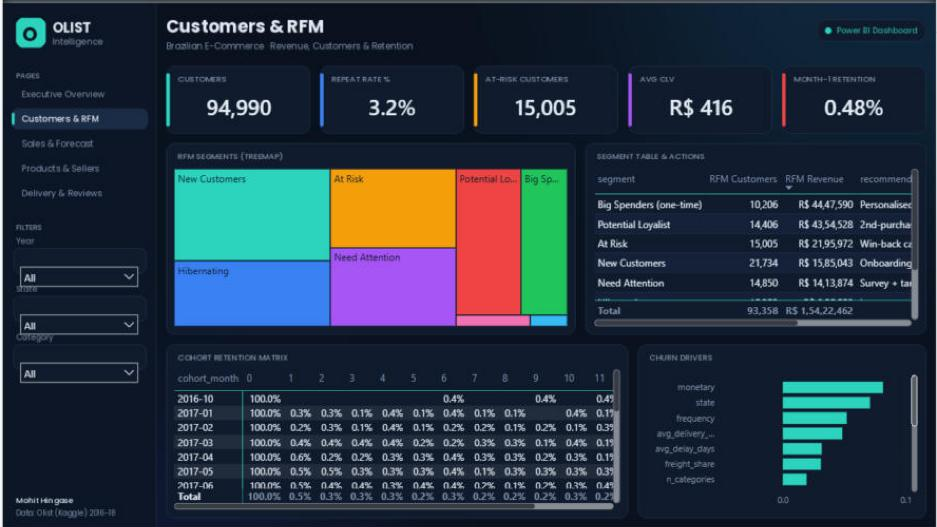

The dashboard page shown, as its layout file describes it:
{"tool":"powerbi","page":{"name":"Customers & RFM","canvas":[1280,720],"ordinal":1},"visuals":[{"type":"card","fields":{"Values":["fact_orders.Customers"]},"box":[234,112,179,62],"z":1000},{"type":"card","fields":{"Values":["fact_orders.Repeat Rate %"]},"box":[445,112,179,62],"z":1000},{"type":"card","fields":{"Values":["customer_rfm.At Risk Customers"]},"box":[656,112,179,62],"z":1000},{"type":"card","fields":{"Values":["customer_clv.Avg CLV"]},"box":[868,112,179,62],"z":1000},{"type":"card","fields":{"Values":["agg_cohort_retention.Month1 Retention %"]},"box":[1079,112,179,62],"z":1000},{"type":"treemap","fields":{"Group":["customer_rfm.segment"],"Values":["customer_rfm.RFM Customers"]},"box":[230,222,549,226],"z":1000},{"type":"tableEx","fields":{"Values":["customer_rfm.segment","customer_rfm.RFM Customers","customer_rfm.RFM Revenue","customer_rfm.recommended_action"]},"box":[805,222,455,226],"z":1000},{"type":"pivotTable","fields":{"Columns":["agg_cohort_retention.month_number"],"Rows":["agg_cohort_retention.cohort_month"],"Values":["agg_cohort_retention.Retention %"]},"box":[230,498,621,202],"z":1000},{"type":"barChart","fields":{"Category":["churn_feature_importance.feature"],"Y":["churn_feature_importance.Churn Driver Importance"]},"box":[877,498,383,202],"z":1000},{"type":"slicer","fields":{"Values":["dim_date.year"]},"box":[14,351,182,40],"z":3000},{"type":"slicer","fields":{"Values":["dim_customer.state"]},"box":[14,417,182,40],"z":3000},{"type":"slicer","fields":{"Values":["dim_product.category"]},"box":[14,483,182,40],"z":3000},{"type":"actionButton","box":[12,110,186,28],"z":4000},{"type":"actionButton","box":[12,178,186,28],"z":4002},{"type":"actionButton","box":[12,212,186,28],"z":4003},{"type":"actionButton","box":[12,246,186,28],"z":4004}]}

Visuals, with their boxes on the page's 1280x720 design canvas (x1, y1, x2, y2). These are canvas units, not pixel positions in the 937x527 screenshot, which may show the page scaled, cropped or inside an application window:
card - fact_orders.Customers: bbox=[234, 112, 413, 174]
card - fact_orders.Repeat Rate %: bbox=[445, 112, 624, 174]
card - customer_rfm.At Risk Customers: bbox=[656, 112, 835, 174]
card - customer_clv.Avg CLV: bbox=[868, 112, 1047, 174]
card - agg_cohort_retention.Month1 Retention %: bbox=[1079, 112, 1258, 174]
treemap - customer_rfm.segment x customer_rfm.RFM Customers: bbox=[230, 222, 779, 448]
tableEx - customer_rfm.segment x customer_rfm.RFM Customers: bbox=[805, 222, 1260, 448]
pivotTable - agg_cohort_retention.month_number x agg_cohort_retention.cohort_month: bbox=[230, 498, 851, 700]
barChart - churn_feature_importance.feature x churn_feature_importance.Churn Driver Importance: bbox=[877, 498, 1260, 700]
slicer - dim_date.year: bbox=[14, 351, 196, 391]
slicer - dim_customer.state: bbox=[14, 417, 196, 457]
slicer - dim_product.category: bbox=[14, 483, 196, 523]
actionButton: bbox=[12, 110, 198, 138]
actionButton: bbox=[12, 178, 198, 206]
actionButton: bbox=[12, 212, 198, 240]
actionButton: bbox=[12, 246, 198, 274]
